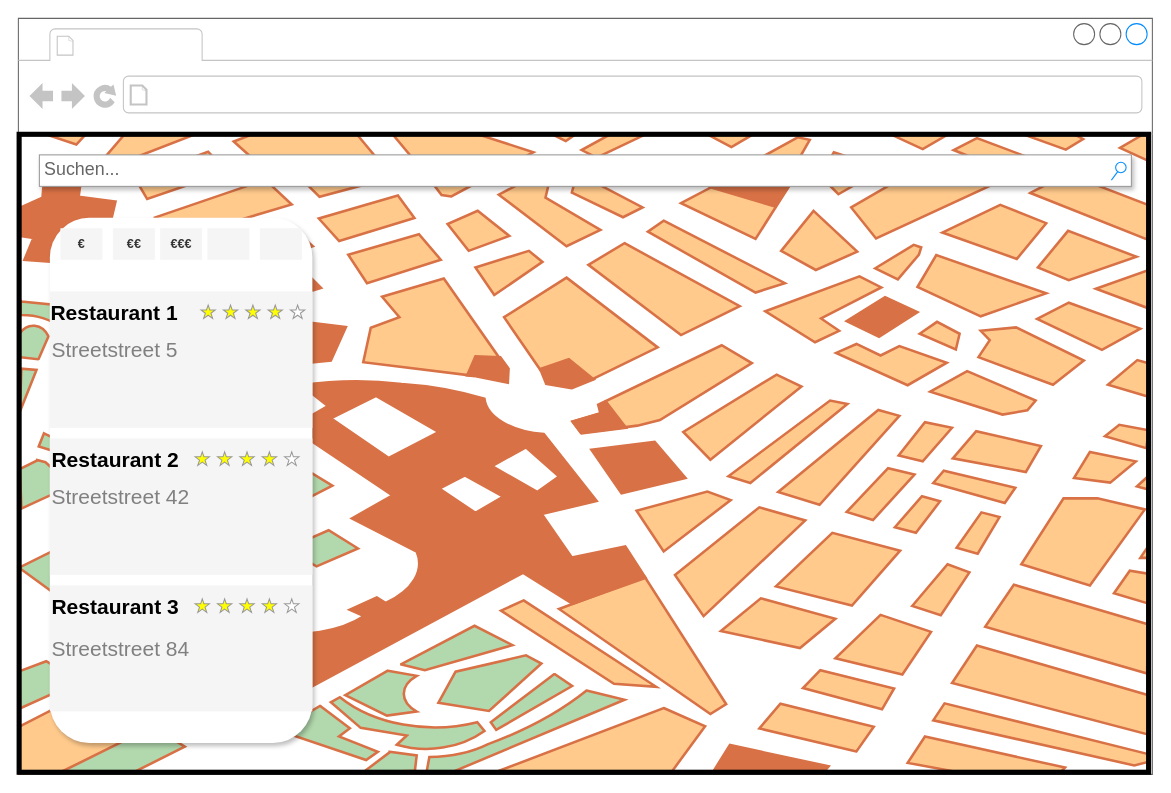
Image size: 1171x793. Some labels were removed from this diagram. Each missing label, with the centre of its shape:
"https://www.racetaurant.de" goes at point (285, 94).
"Racetaurant" goes at point (138, 44).
